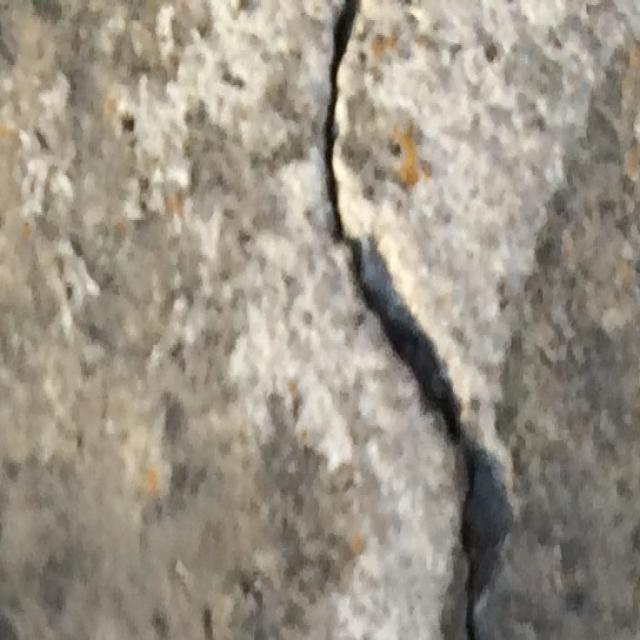Longitudinal: (316, 0, 500, 640)
